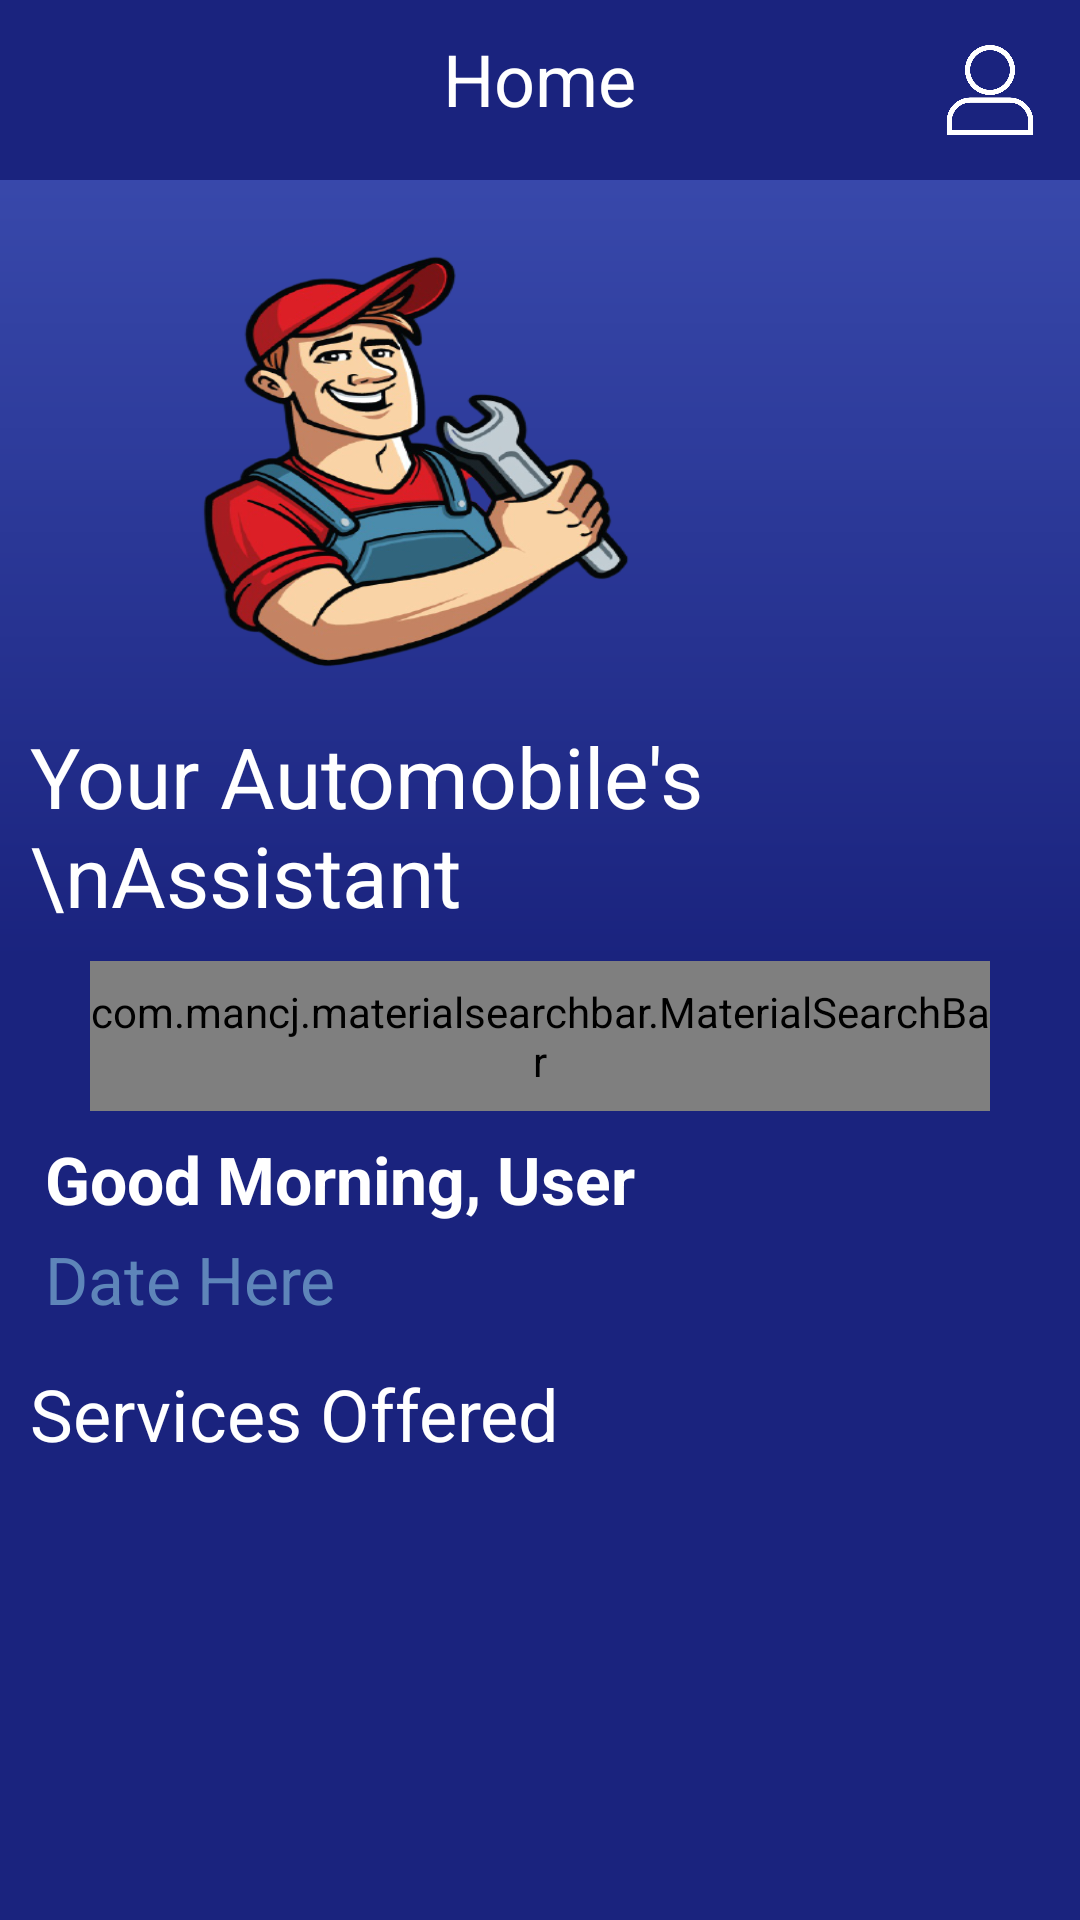

Icons on this 1080px x 1920px Android screen, each with the point to tap as point (x, y):
profile: point (990, 90)
